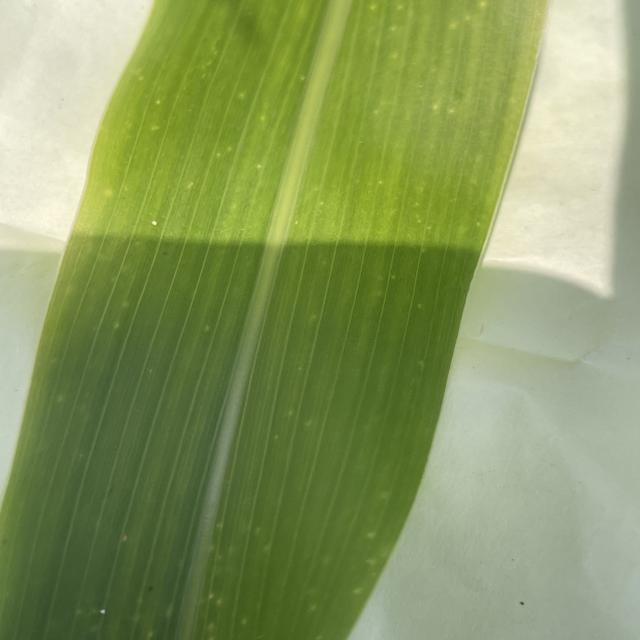millet_healthy: (1, 0, 547, 640)
